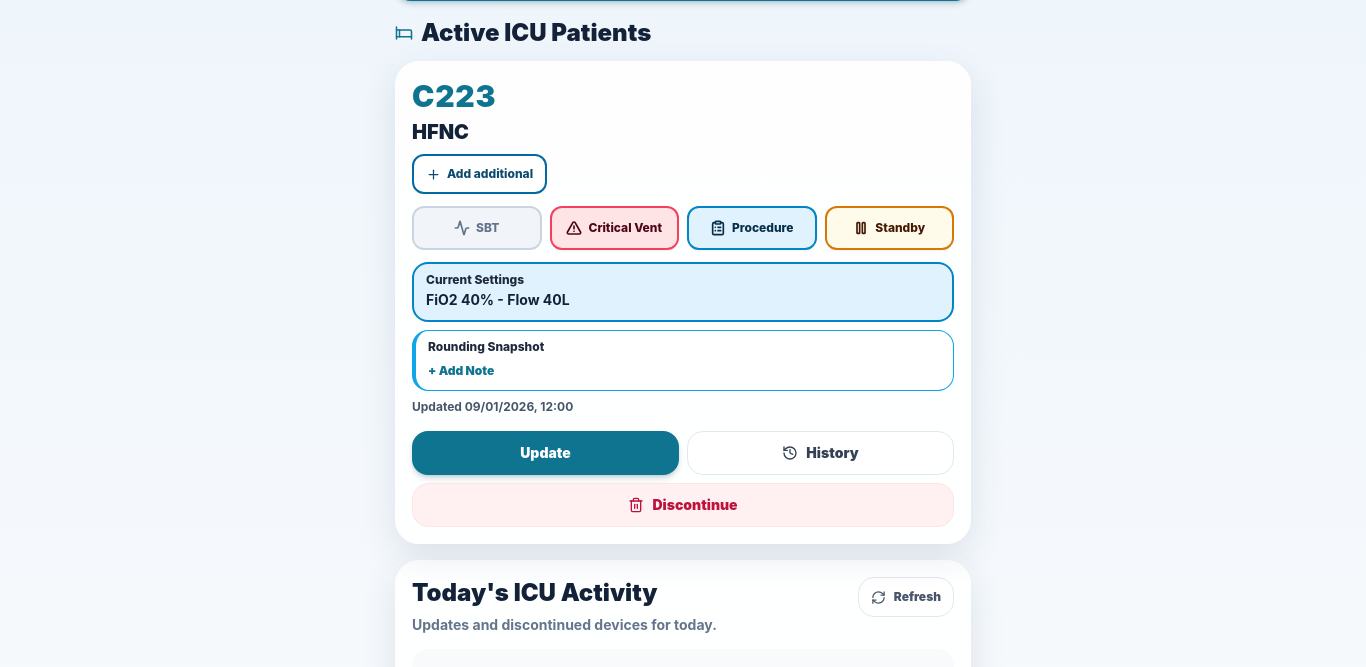
Test case: ICU patient notes › adds a note directly from the compact patient card without updating device settings
(page scrolled)
Click the button "+ Add Note": (461, 371) [428,363,494,379]
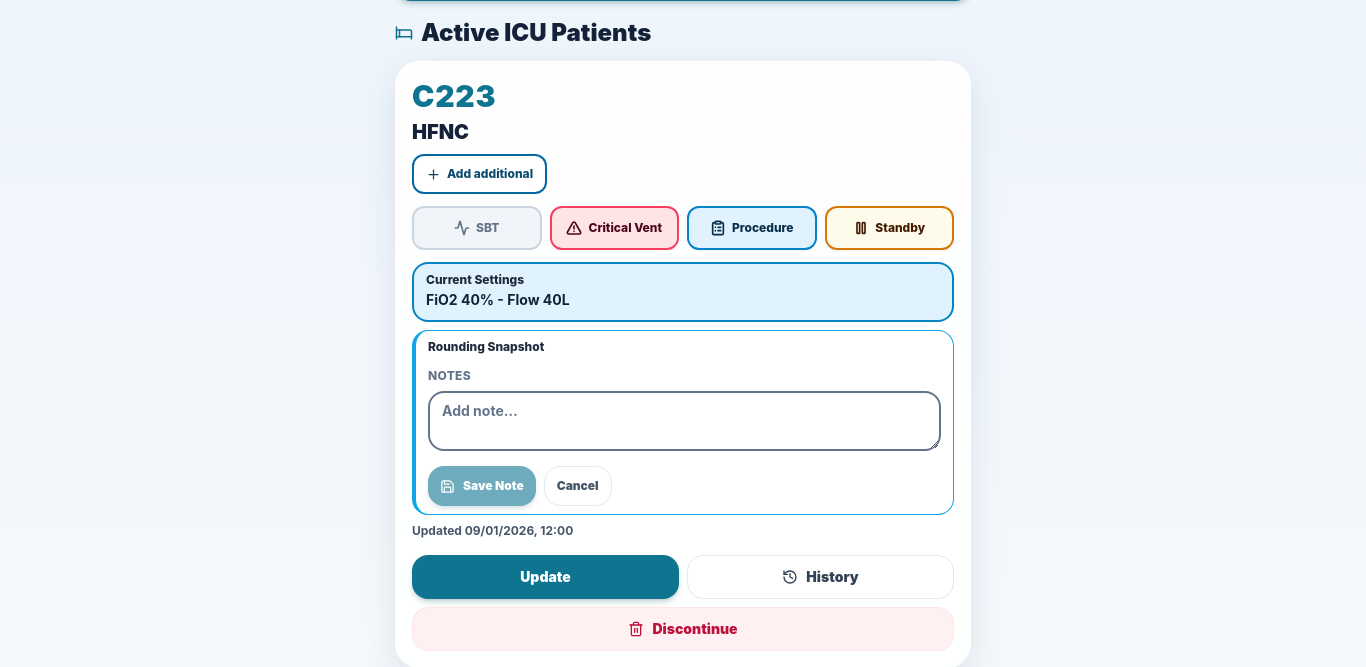
In the text box labelled "Notes": (684, 421) [428,391,941,451], type "  New inline note  "
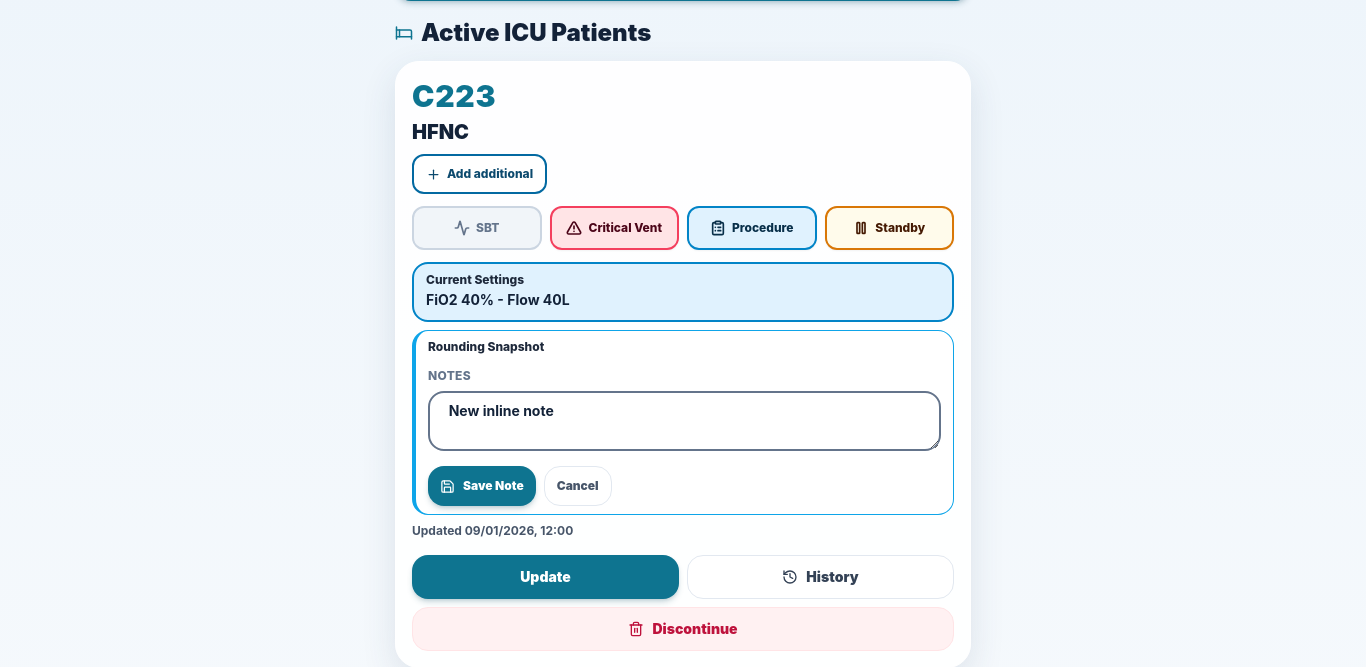
Click the button "Save Note": (482, 486) [428,466,536,506]
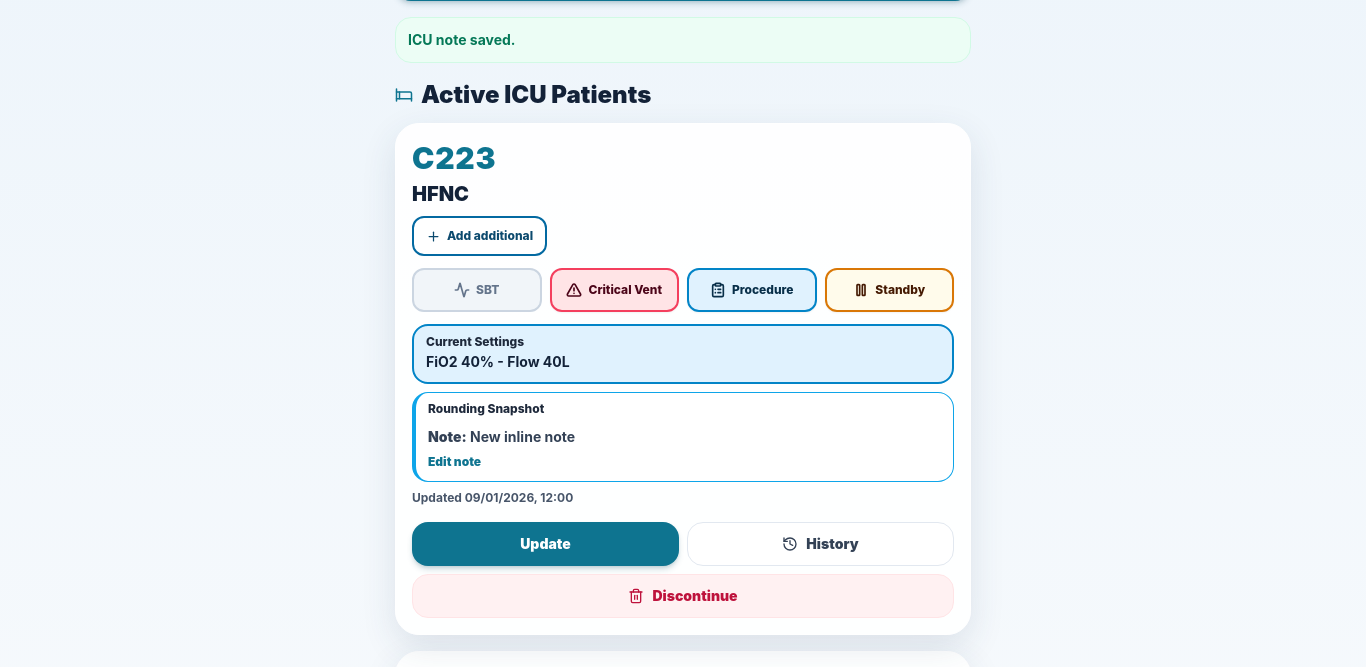
Expected: the field labelled "Notes" is not shown
Now the button "Edit note" is shown, box [428,454,481,470]
